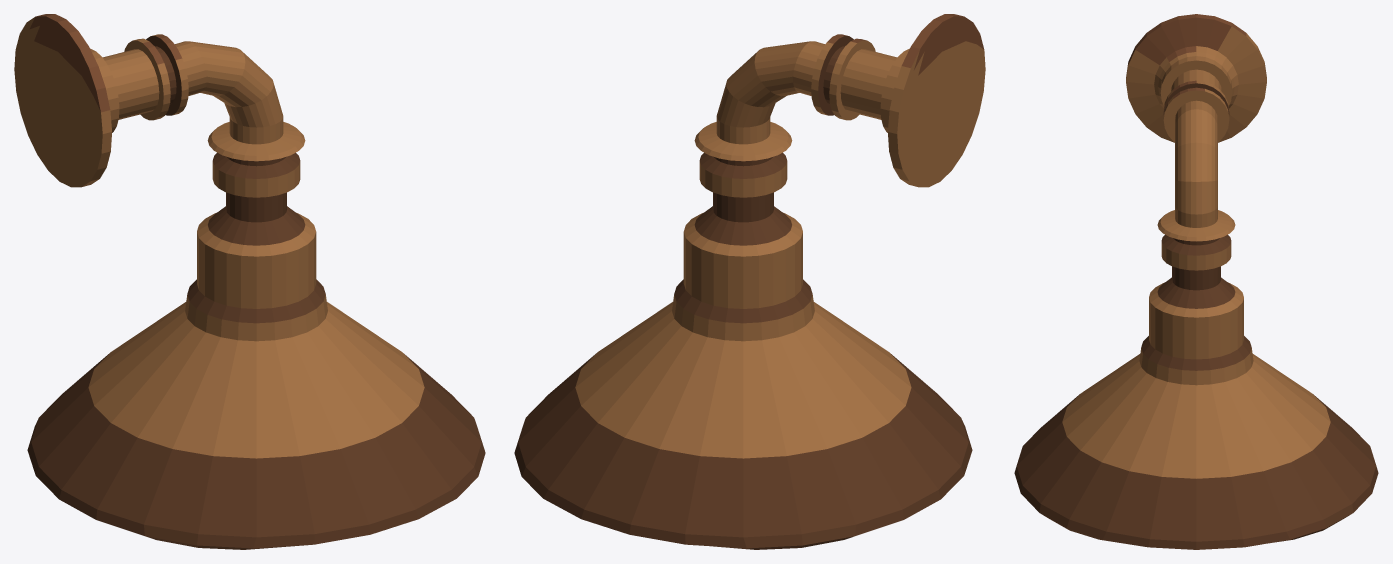
Rendered from steampunk_wall_lamp.glb.
The picture shows the model from 3 angles, left to right: view 1: azimuth 30°, elevation 25°; view 2: azimuth 150°, elevation 25°; view 3: azimuth 270°, elevation 25°; orthographic projection. The views are drawn at different scales.
Visible parts, largest first — view 1: BulbOff; view 2: BulbOff; view 3: BulbOff.
Boxes of the visible parts, bbox=[...] form: BulbOff: bbox=[14, 14, 485, 549]; BulbOff: bbox=[514, 14, 985, 549]; BulbOff: bbox=[1014, 14, 1378, 549].
Size of the model in its own units: 0.3713 by 0.5 by 0.3698.
